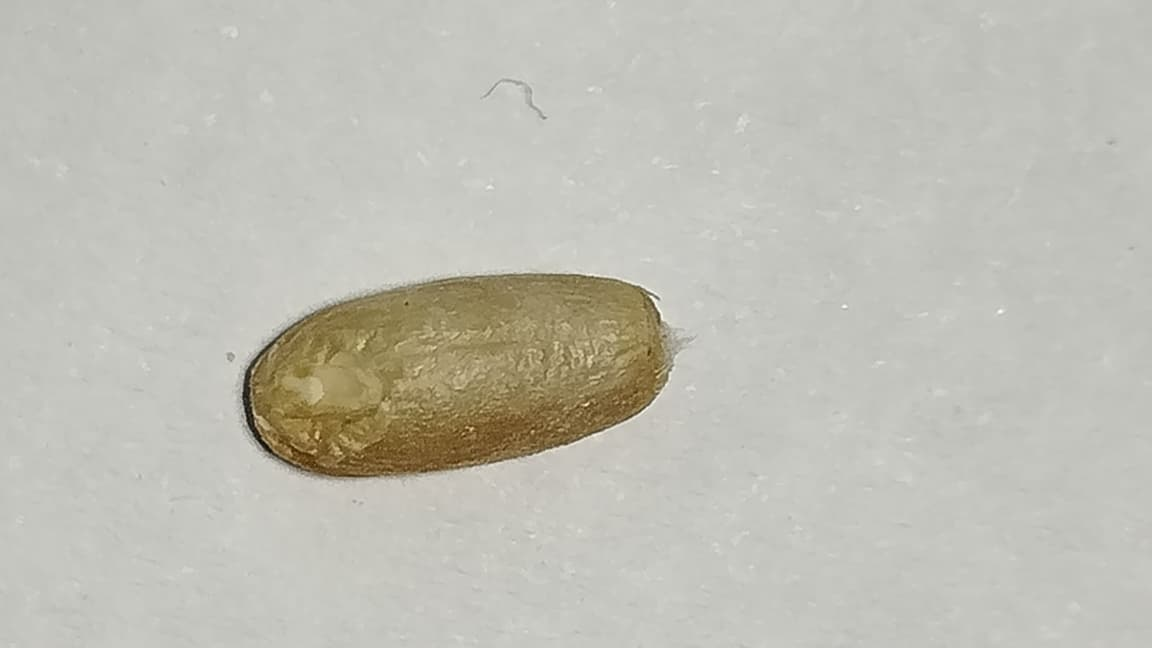healthy: (242, 273, 676, 479)
